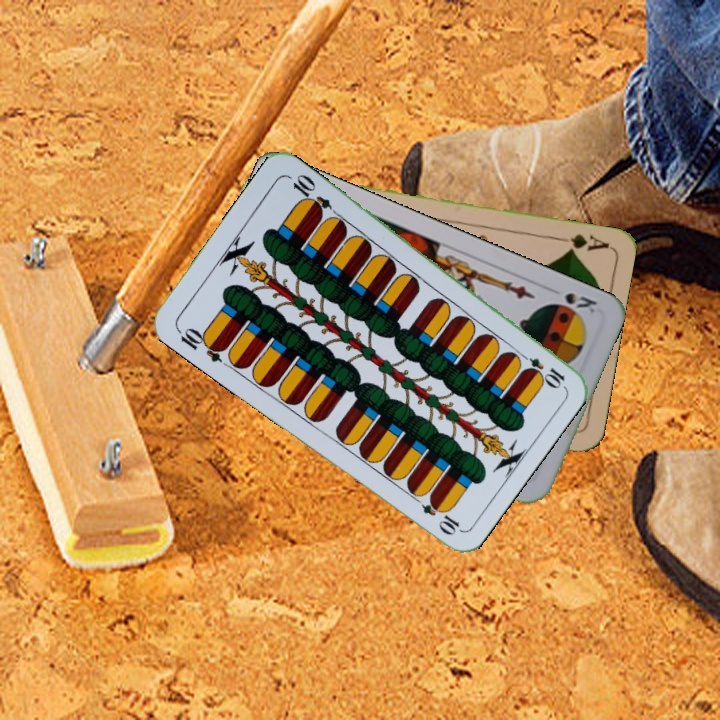E10: (173, 323, 229, 365), (513, 348, 568, 390)
GA: (552, 230, 611, 255)
SK: (561, 288, 600, 316)
